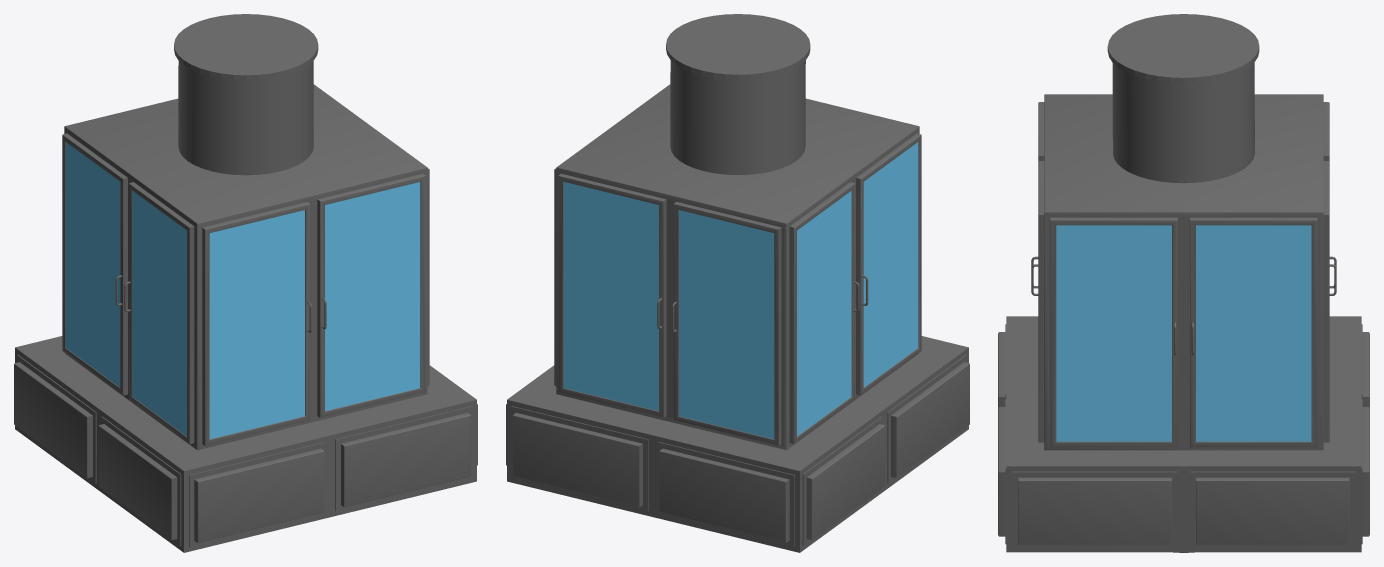
The model's file is ISHIDA.FBX.
3 views of the same model, side by side, from view 1: azimuth 30°, elevation 25°; view 2: azimuth 150°, elevation 25°; view 3: azimuth 270°, elevation 25° (orthographic). The views are drawn at different scales.
Visible parts, largest first — view 1: Box001, Cylinder001, Box009, Box007, Box017, Box015, Box006, Box008, Box014, Box016, Box012; view 2: Box001, Cylinder001, Box003, Box005, Box015, Box017, Box004, Box002, Box016, Box014, Box010; view 3: Box001, Box011, Box013, Cylinder001, Box010, Box012, Box004, Box006.
Boxes of the visible parts, <box> form: Box001: <box>14,84,477,552</box>; Cylinder001: <box>174,14,318,175</box>; Box009: <box>209,210,304,439</box>; Box007: <box>325,182,420,410</box>; Box017: <box>65,142,120,387</box>; Box015: <box>132,191,186,436</box>; Box006: <box>317,173,425,417</box>; Box008: <box>202,202,309,445</box>; Box014: <box>129,182,194,444</box>; Box016: <box>62,133,127,395</box>; Box012: <box>427,168,429,386</box>; Box001: <box>506,84,969,552</box>; Cylinder001: <box>666,14,810,174</box>; Box003: <box>679,210,774,439</box>; Box005: <box>563,182,658,410</box>; Box015: <box>863,142,918,387</box>; Box017: <box>797,191,851,436</box>; Box004: <box>558,173,666,417</box>; Box002: <box>674,202,781,445</box>; Box016: <box>789,182,854,444</box>; Box014: <box>856,133,921,395</box>; Box010: <box>554,168,556,385</box>; Box001: <box>998,94,1369,552</box>; Box011: <box>1196,225,1311,441</box>; Box013: <box>1056,225,1171,441</box>; Cylinder001: <box>1107,14,1259,183</box>; Box010: <box>1190,217,1317,447</box>; Box012: <box>1050,217,1177,447</box>; Box004: <box>1323,161,1329,442</box>; Box006: <box>1038,161,1044,442</box>.
Size of the model in its own units: 61.81 by 88.62 by 61.81.
